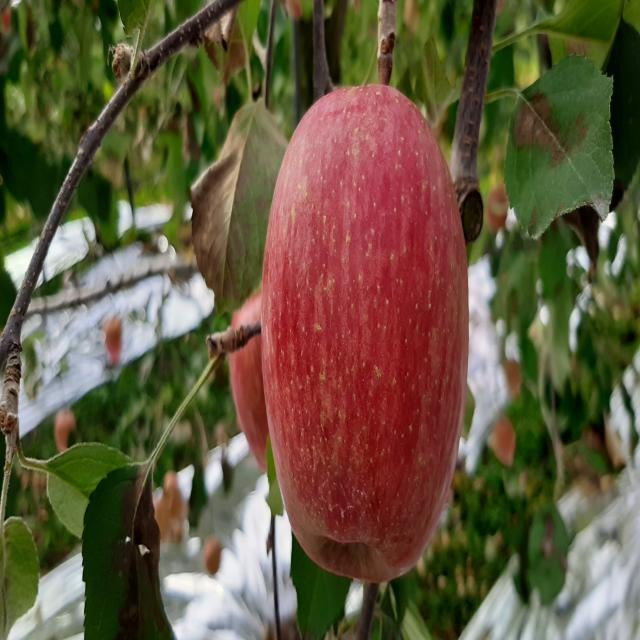fresh: (256, 77, 474, 592)
